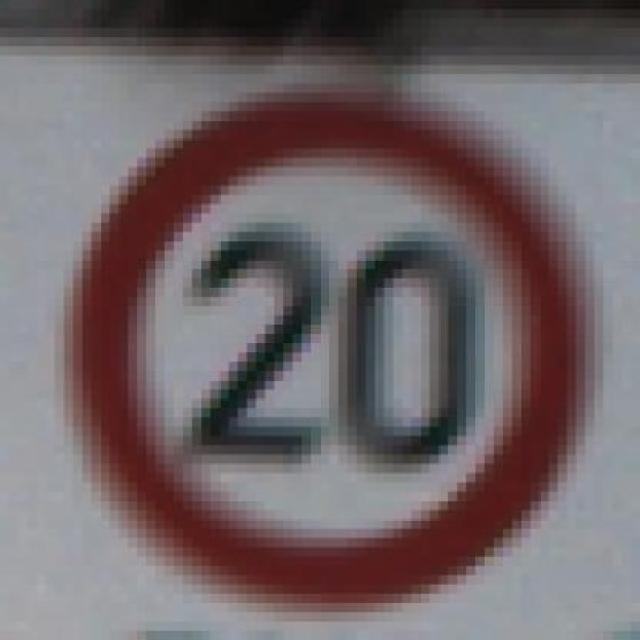Speed Limit 20 KMPh: (36, 55, 613, 603)
